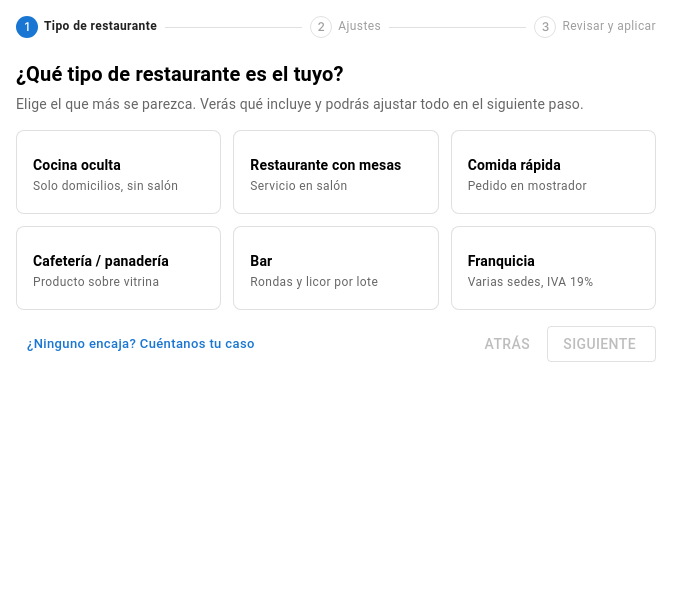
Paso 2 — Ejes › volver a Paso 1 conserva el arquetipo seleccionado
Click the text "Restaurante con mesas". click: (336, 165)
box: [250, 155, 422, 175]
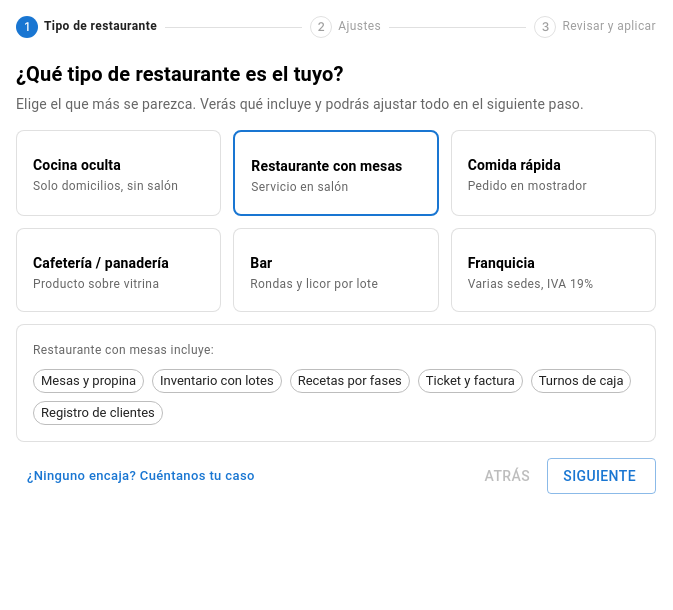
Click the button "Siguiente". click: (602, 476)
box: [547, 458, 656, 494]
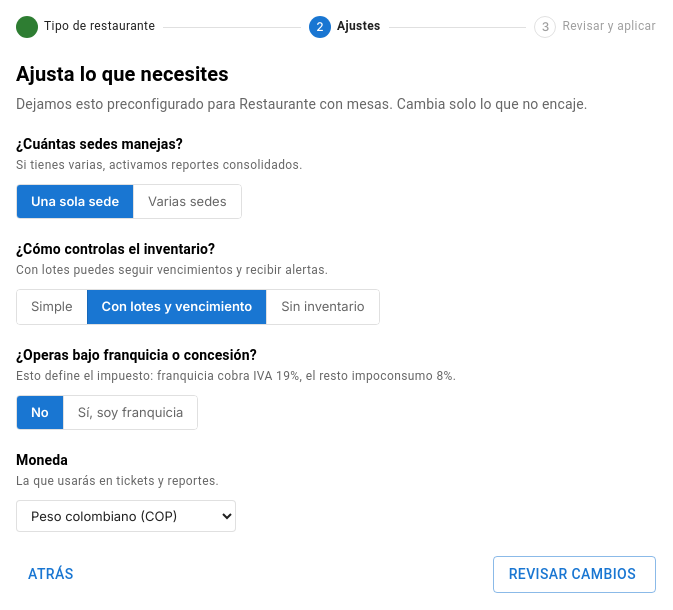
Click the button "Atrás". click: (49, 574)
box: [16, 556, 82, 593]
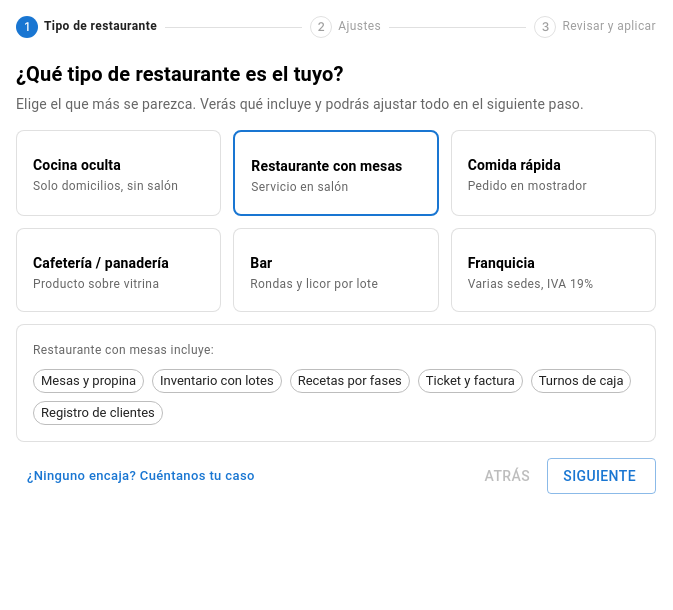
Result: the text "Restaurante con mesas incluye:" is shown at [33, 343, 214, 357]
